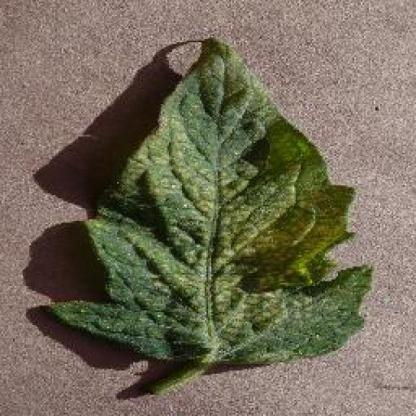Tomato_Spider_Mites: (46, 39, 370, 361)
